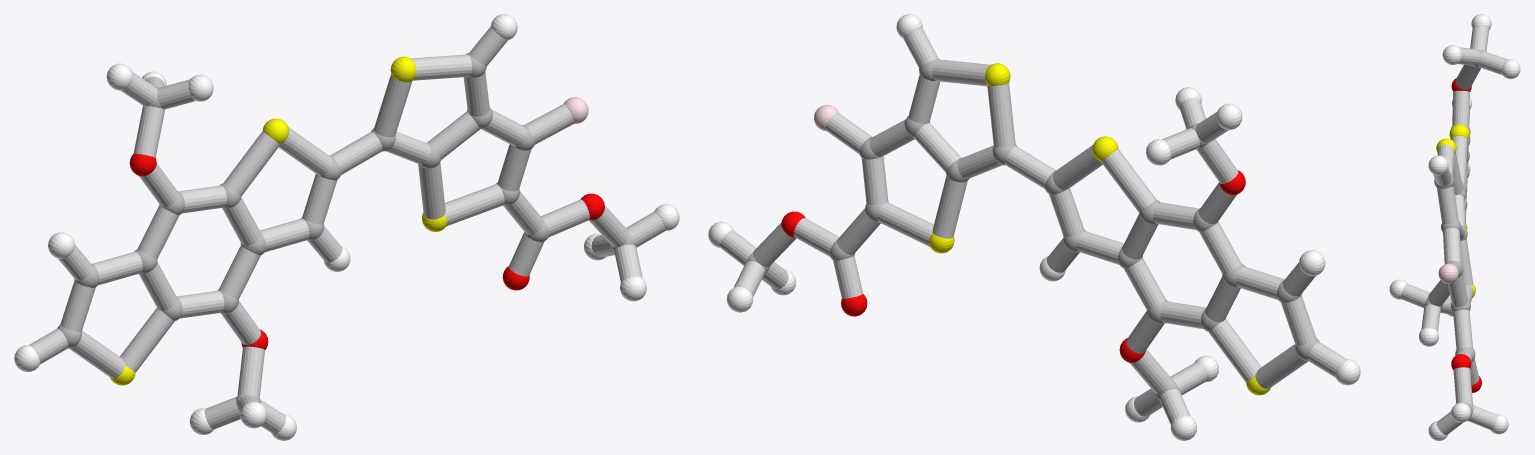
File: Dimethoxy_Benzodithiophene_Phi_5_Theta_190_Methylcarbonyl_3_Fluoro_Thienothiophene.glb
3 views of the same model, side by side, from view 1: azimuth 30°, elevation 25°; view 2: azimuth 150°, elevation 25°; view 3: azimuth 270°, elevation 25° (orthographic). The views are drawn at different scales.
Parts seen in each view (by area): view 1: grp15205, grp8689, grp1, grp7241, grp13395; view 2: grp15205, grp8689, grp1, grp7241, grp13395; view 3: grp15205, grp8689, grp1, grp13395, grp7241, grp14843.
Part boxes in pixels (x1,y1,x2,y2): grp15205: [29, 26, 665, 433]; grp8689: [14, 14, 679, 440]; grp1: [57, 53, 635, 405]; grp7241: [110, 56, 446, 385]; grp13395: [129, 153, 604, 349]; grp15205: [719, 28, 1346, 424]; grp8689: [708, 14, 1360, 440]; grp1: [746, 58, 1319, 401]; grp7241: [929, 63, 1270, 395]; grp13395: [781, 170, 1245, 362]; grp15205: [1401, 25, 1507, 434]; grp8689: [1389, 14, 1520, 440]; grp1: [1424, 49, 1484, 418]; grp13395: [1451, 78, 1481, 392]; grp7241: [1436, 124, 1475, 297]; grp14843: [1438, 263, 1458, 283].
Bounding box in the file's own units: 16.96 × 9.31 × 3.89.
